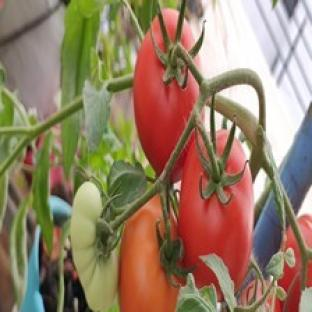Tomato: (179, 138, 253, 299), (134, 30, 199, 175), (119, 197, 178, 311), (70, 182, 118, 310), (279, 226, 300, 311), (240, 280, 264, 306)
